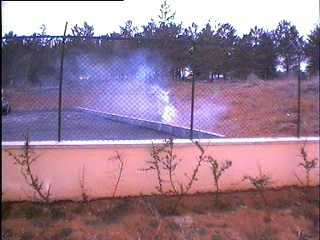smoke: (80, 51, 210, 132)
